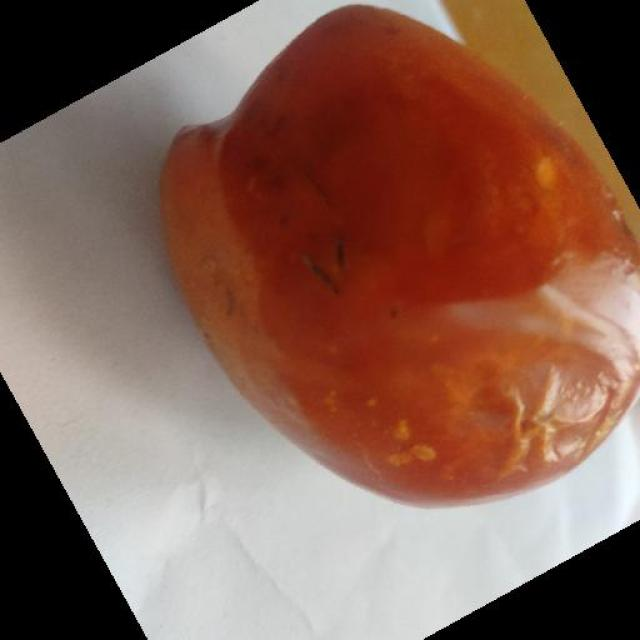Stale_tomato: (171, 73, 623, 524)
